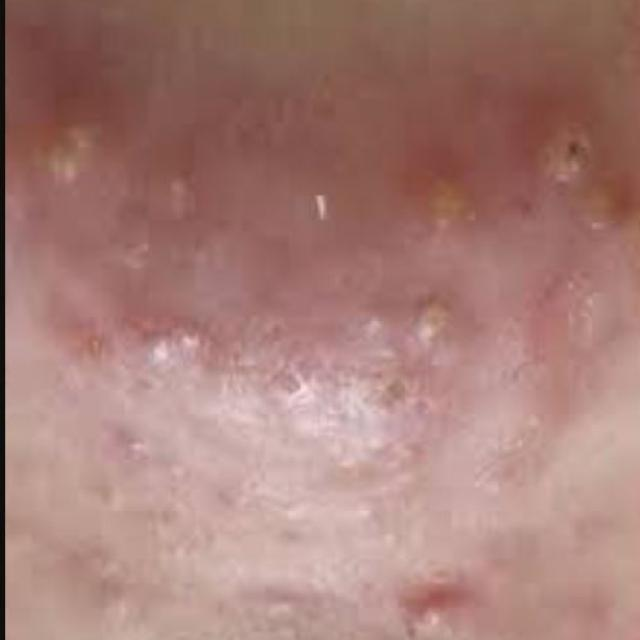pustule: (10, 72, 629, 411)
